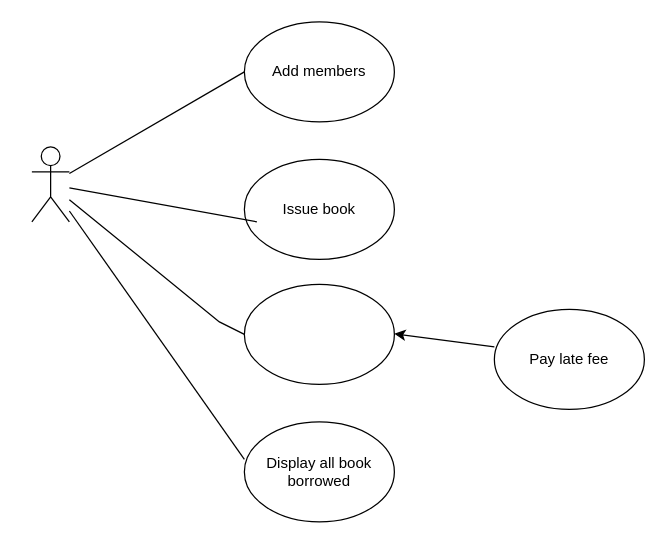
The diagram is 666 pixels wide and 544 high, and some of its shapes have lost their labels. The shapes that lost their labels are listed below. From the top down, each one's centre as x and y in pixels, then its label:
At point 50,184: "Librarian".
At point 318,333: "Return book".
